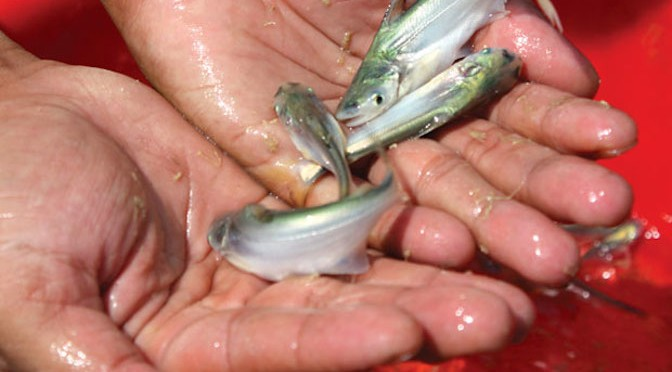fish: (218, 206, 387, 274), (338, 40, 438, 108), (427, 47, 514, 113), (280, 82, 342, 167)
